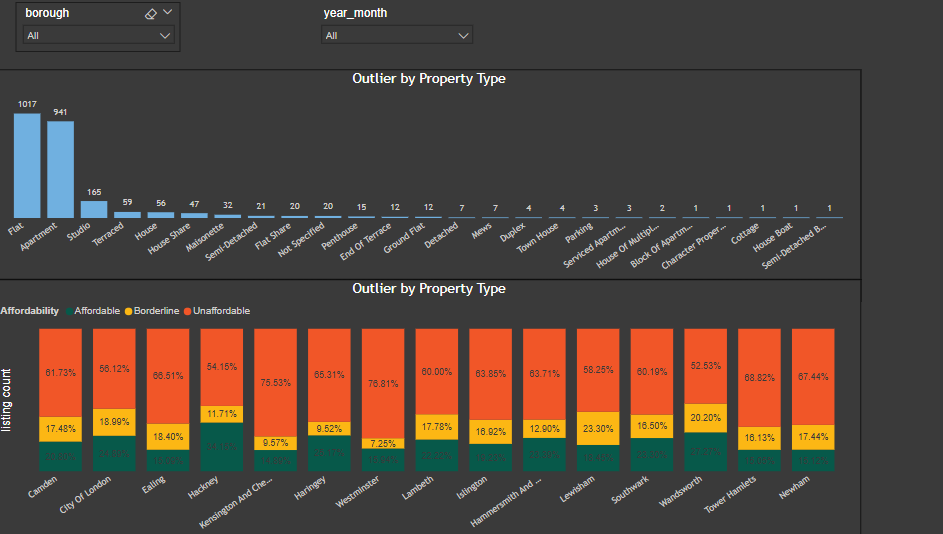

The dashboard page shown, as its layout file describes it:
{"tool":"powerbi","page":{"name":"Exploratory ","canvas":[1280,720],"ordinal":3},"visuals":[{"type":"slicer","fields":{"Values":["crime_rate_dim.borough"]},"box":[25,3.3,221.7,66.7],"z":0},{"type":"slicer","fields":{"Values":["fact_listings.year_month"]},"box":[423.3,3.3,221.7,66.7],"z":1000},{"type":"clusteredColumnChart","title":"Outlier by Property Type","fields":{"Category":["fact_listings.property_type"],"Y":["CountNonNull(fact_listings.IsOutlier)"]},"box":[0,93.3,1153.3,280],"z":2000},{"type":"hundredPercentStackedColumnChart","title":"Outlier by Property Type","fields":{"Category":["fact_listings.borough"],"Series":["fact_listings.affordability"],"Y":["Measure Table.listing count"]},"box":[0,373.3,1153.3,346.7],"z":3000}]}

Visuals, with their boxes in screenshot pixels (x1, y1, x2, y2), scaled from the page's 1280x720 canvas onto the 943x534 screenshot:
slicer - crime_rate_dim.borough: 18:2:182:52
slicer - fact_listings.year_month: 312:2:475:52
"Outlier by Property Type" clusteredColumnChart: 0:69:850:277
"Outlier by Property Type" hundredPercentStackedColumnChart: 0:277:850:533
